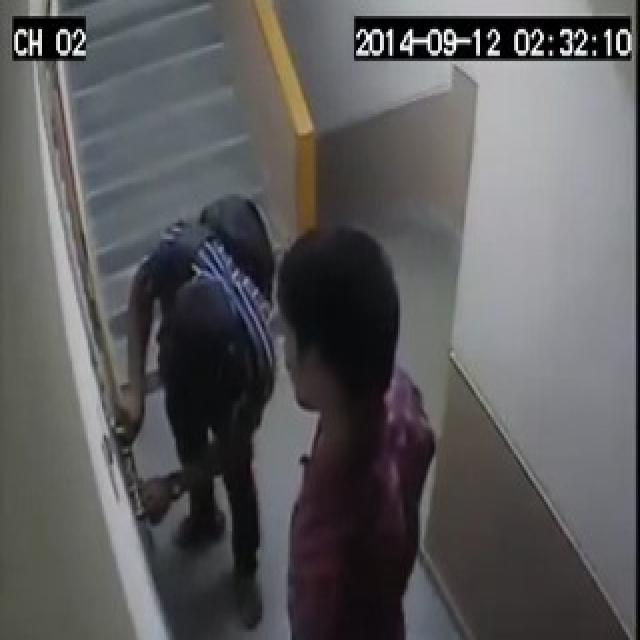burglary: (51, 302, 401, 550)
